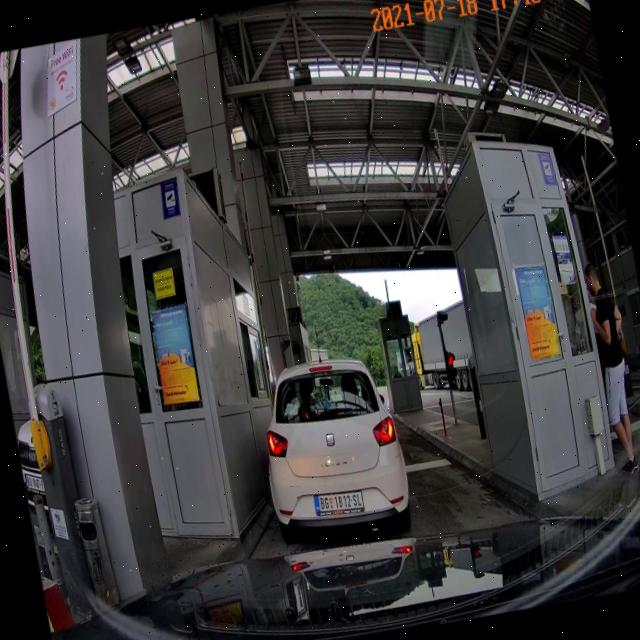License-plate: (312, 487, 366, 523), (394, 159, 416, 176), (310, 67, 324, 80)
